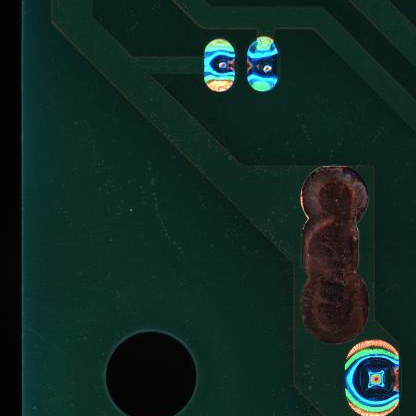spot: (343, 339, 401, 416), (247, 35, 282, 95), (203, 37, 236, 93)
